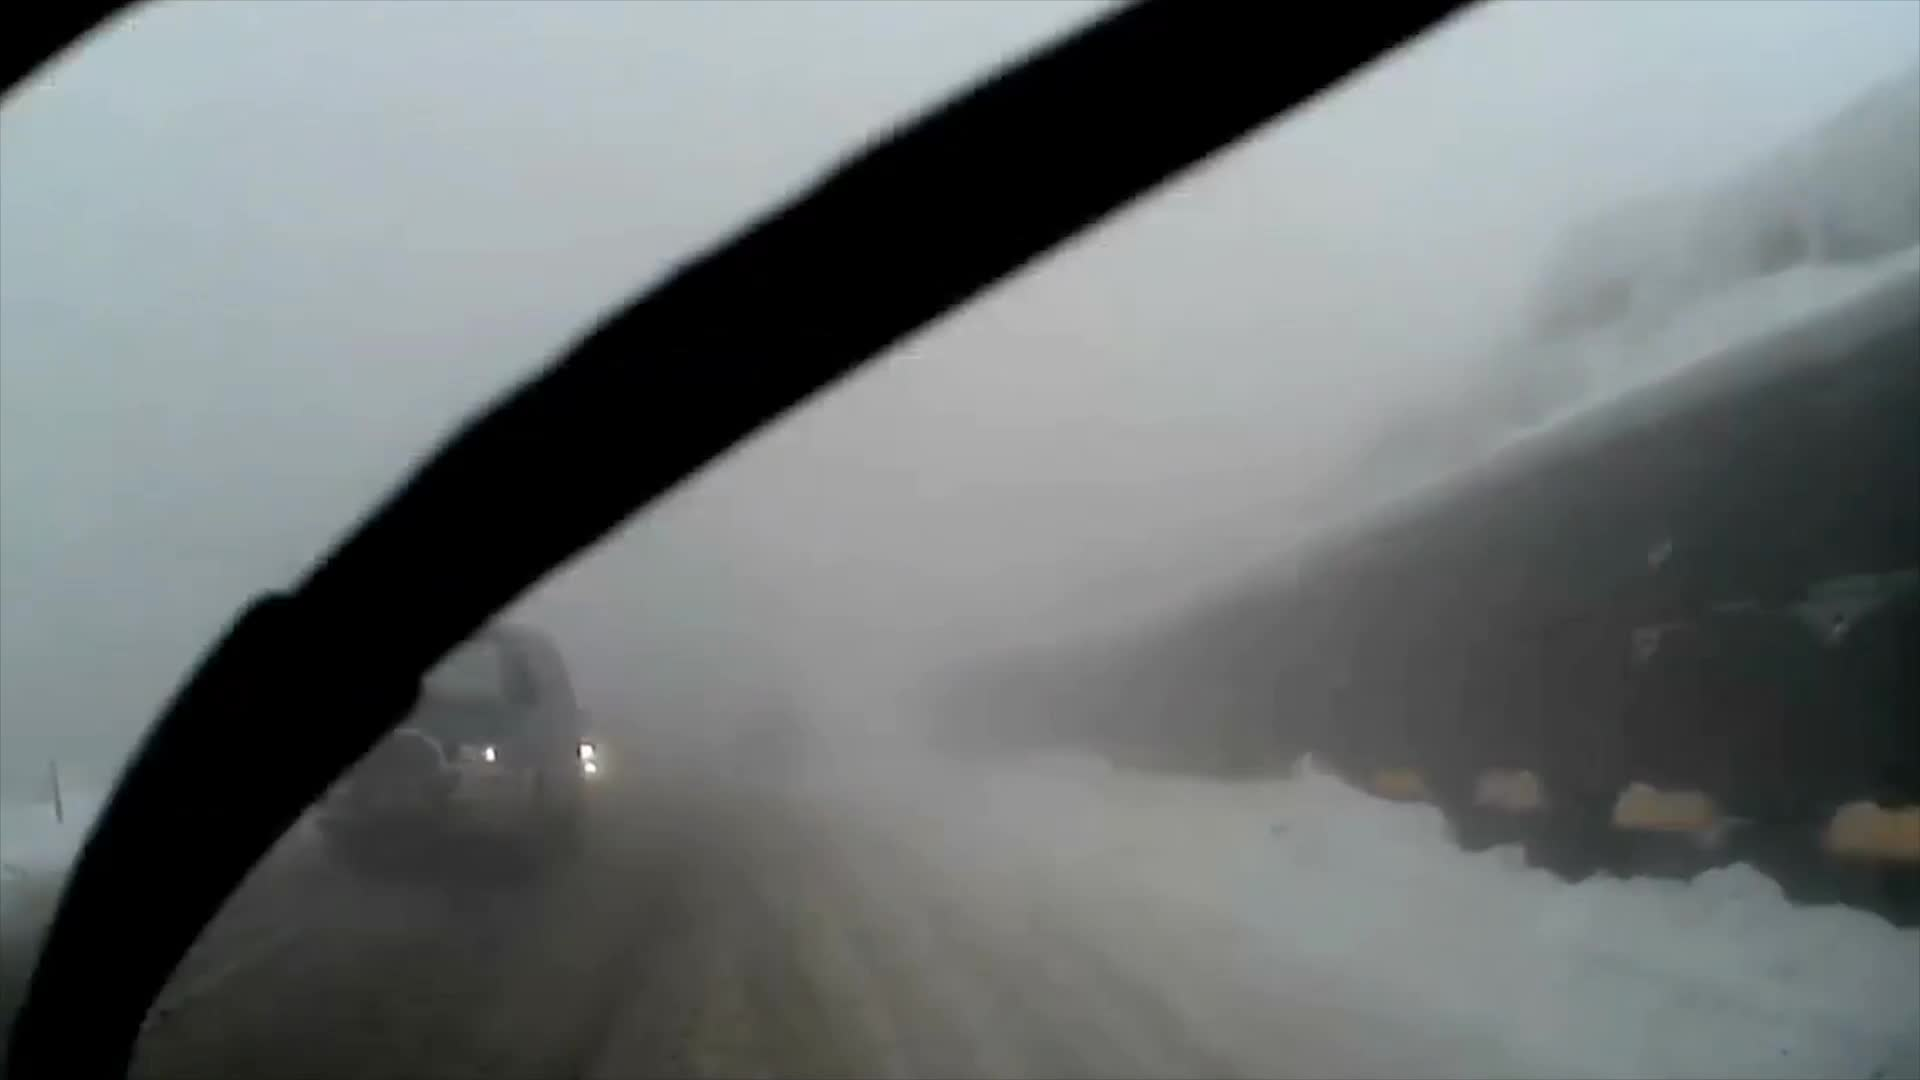vehicle: (280, 615, 587, 891)
